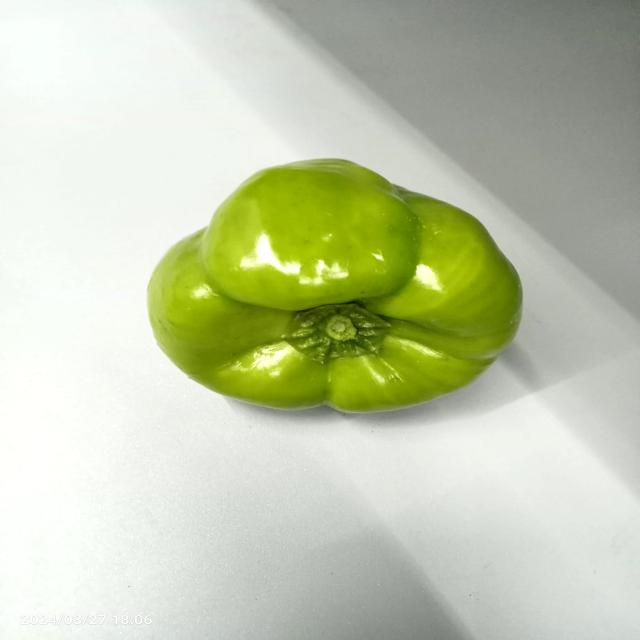bell pepper: (139, 135, 536, 423)
